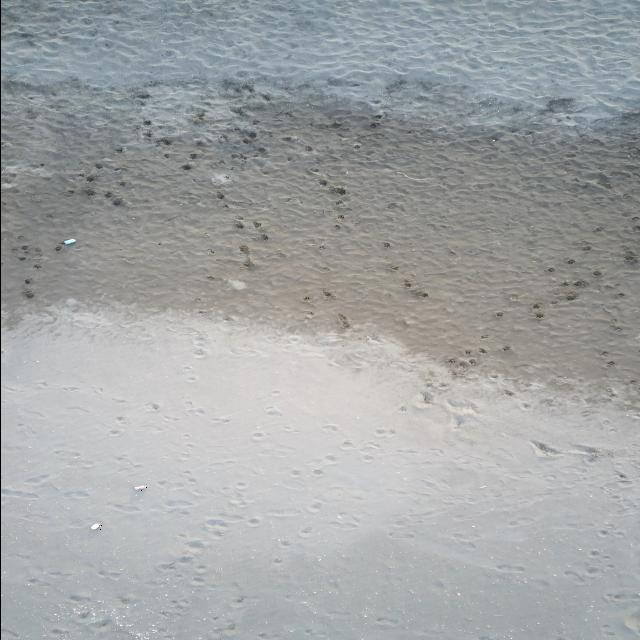Garbage: (227, 279, 246, 287), (134, 484, 147, 491), (64, 238, 75, 244), (91, 522, 100, 528)
